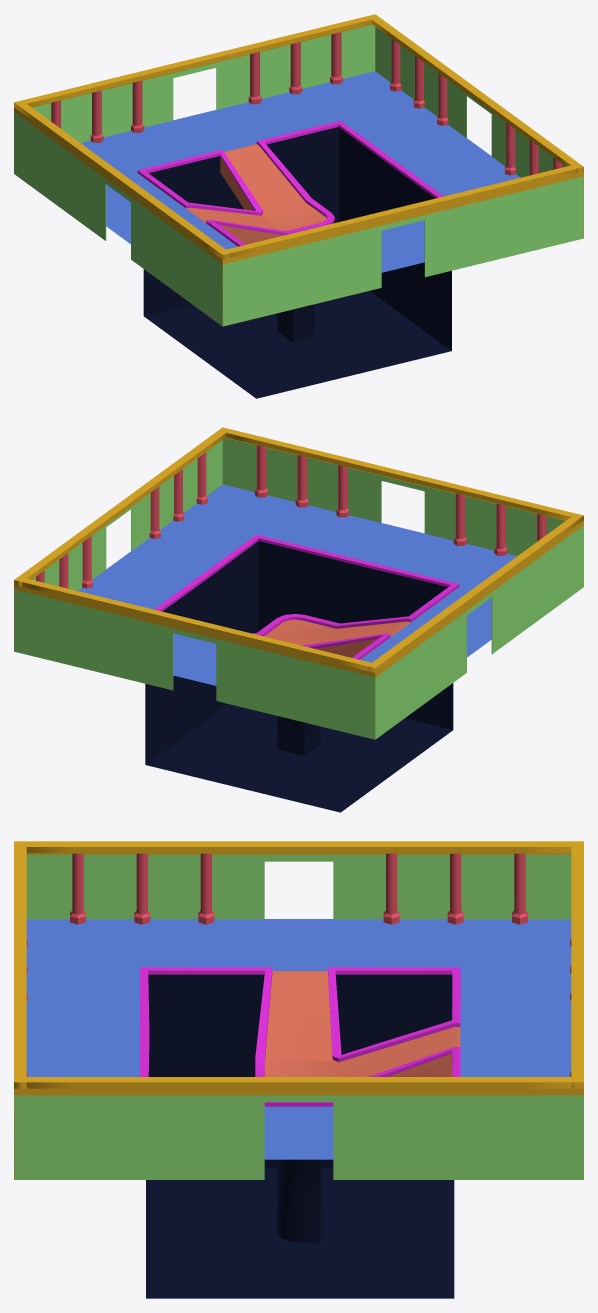
The model's file is LRoom.fbx.
3 renders of one model, top to bottom at view 1: azimuth 30°, elevation 25°; view 2: azimuth 150°, elevation 25°; view 3: azimuth 270°, elevation 25°, orthographic. The views are drawn at different scales.
Parts seen in each view (by area): view 1: LFloor, LFloorPit, WallSouth, WallNorth, WallWest, WallEast; view 2: LFloorPit, LFloor, WallNorth, WallSouth, WallWest, WallEast; view 3: LFloor, LFloorPit, WallEast, WallWest, WallSouth, WallNorth.
Part boxes in pixels (x1,y1,x2,y2): LFloor: [81, 71, 520, 342]; LFloorPit: [143, 127, 451, 398]; WallSouth: [218, 164, 583, 326]; WallNorth: [18, 15, 378, 142]; WallWest: [14, 100, 230, 326]; WallEast: [367, 14, 583, 238]; LFloorPit: [145, 541, 453, 812]; LFloor: [77, 484, 516, 755]; WallNorth: [14, 578, 378, 739]; WallSouth: [218, 428, 583, 556]; WallWest: [367, 513, 583, 739]; WallEast: [14, 427, 230, 651]; LFloor: [26, 919, 571, 1242]; LFloorPit: [146, 974, 454, 1298]; WallEast: [14, 1077, 583, 1179]; WallWest: [14, 841, 583, 924]; WallSouth: [14, 841, 27, 1179]; WallNorth: [570, 842, 583, 1179].
Bounding box in the file's own units: 3003 × 1607 × 3003.
